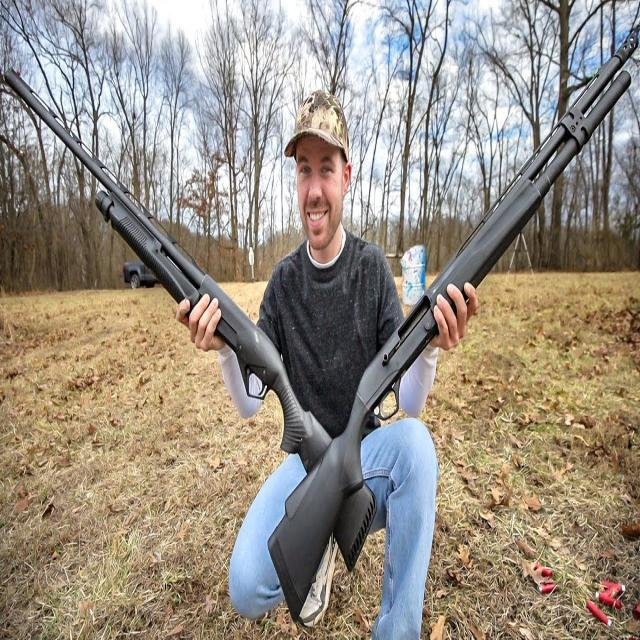ShotGun: (267, 7, 640, 623), (4, 71, 334, 476)
